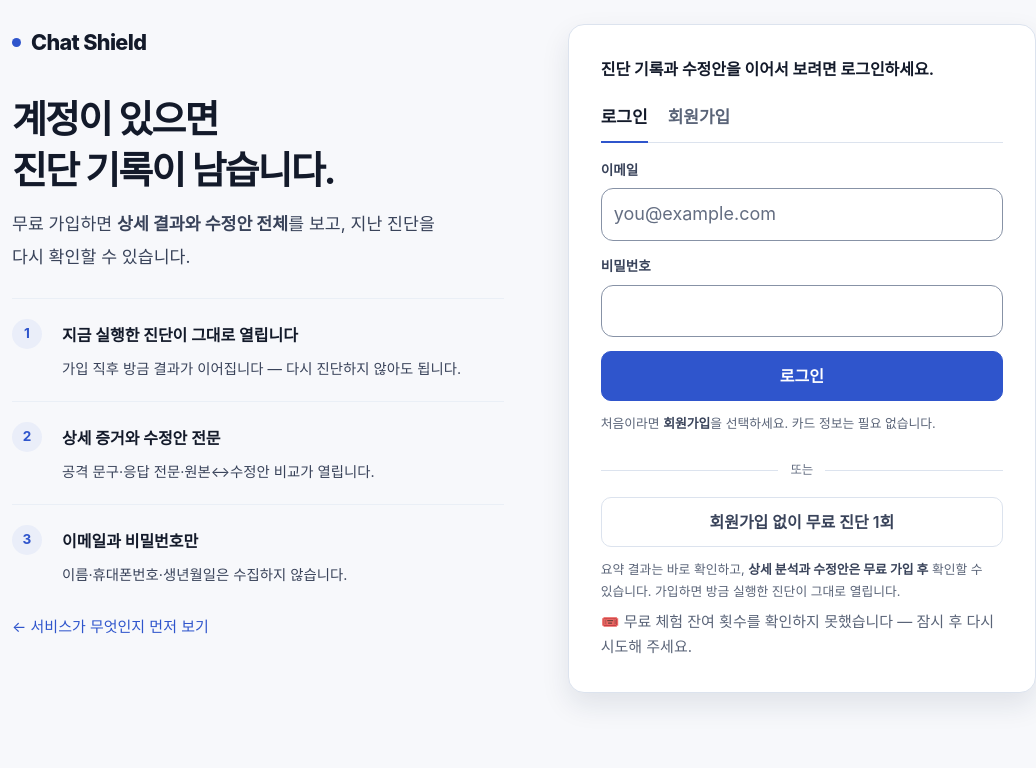
첫 화면 › 로그인 실패는 서버 문구 그대로(이유를 구분하지 않는다)
Type "a@b.com" into the field labelled "이메일".
click(802, 215); type("a@b.com")  # box [601,188,1003,241]
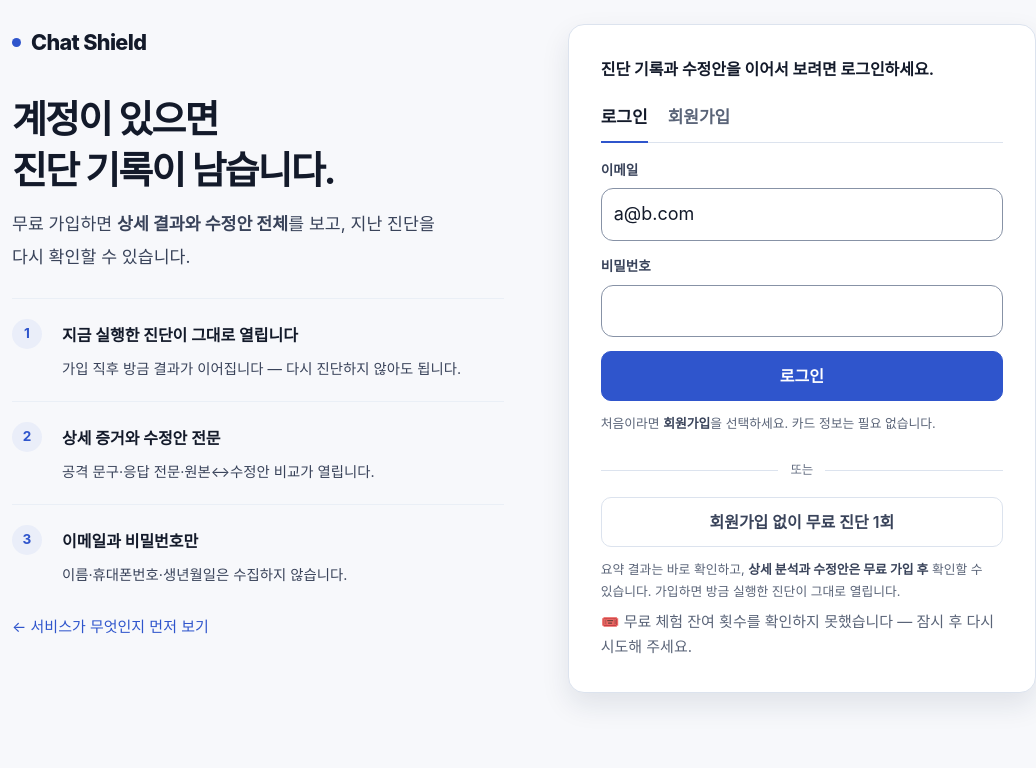
Type "x1234567" into the password field labelled "비밀번호".
click(802, 311); type("x1234567")  # box [601,285,1003,337]
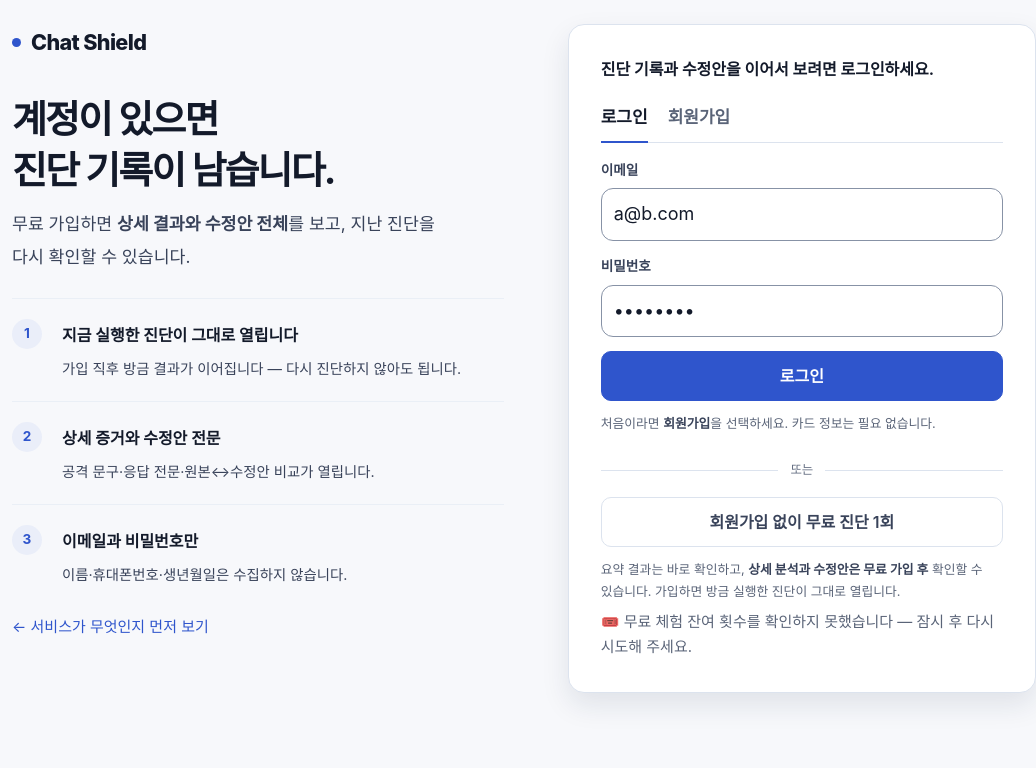
Click the button "로그인".
click(802, 376)  # box [601,351,1003,401]
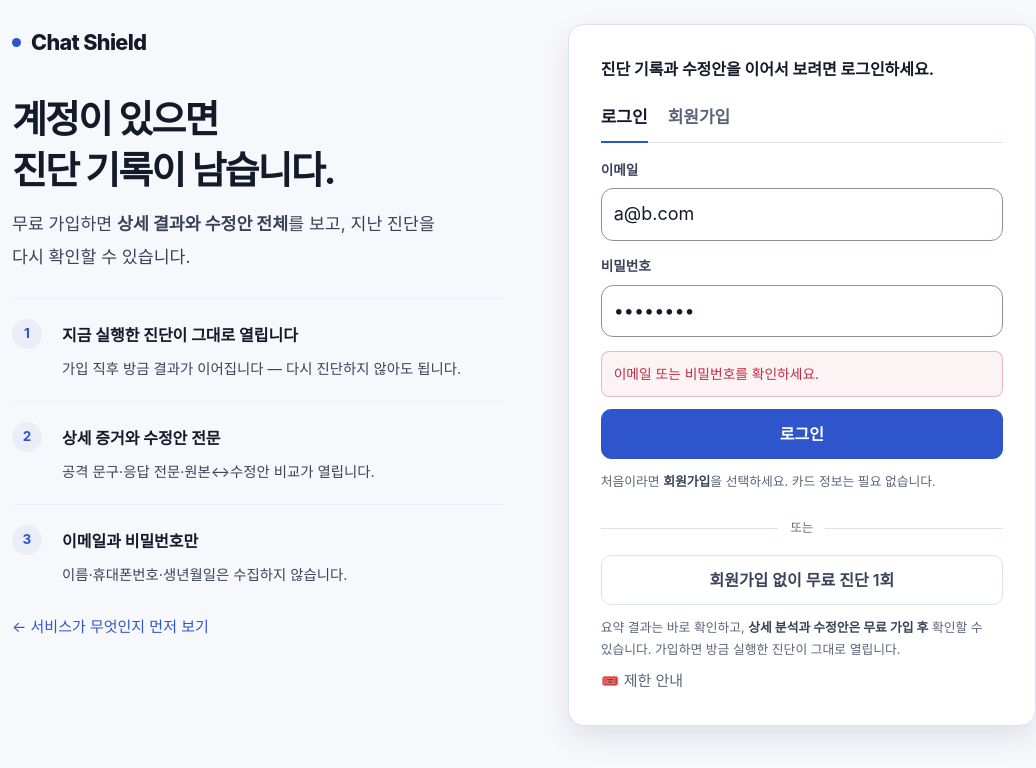
Result: the message reads "이메일 또는 비밀번호를 확인하세요." at [614,366,819,382]
